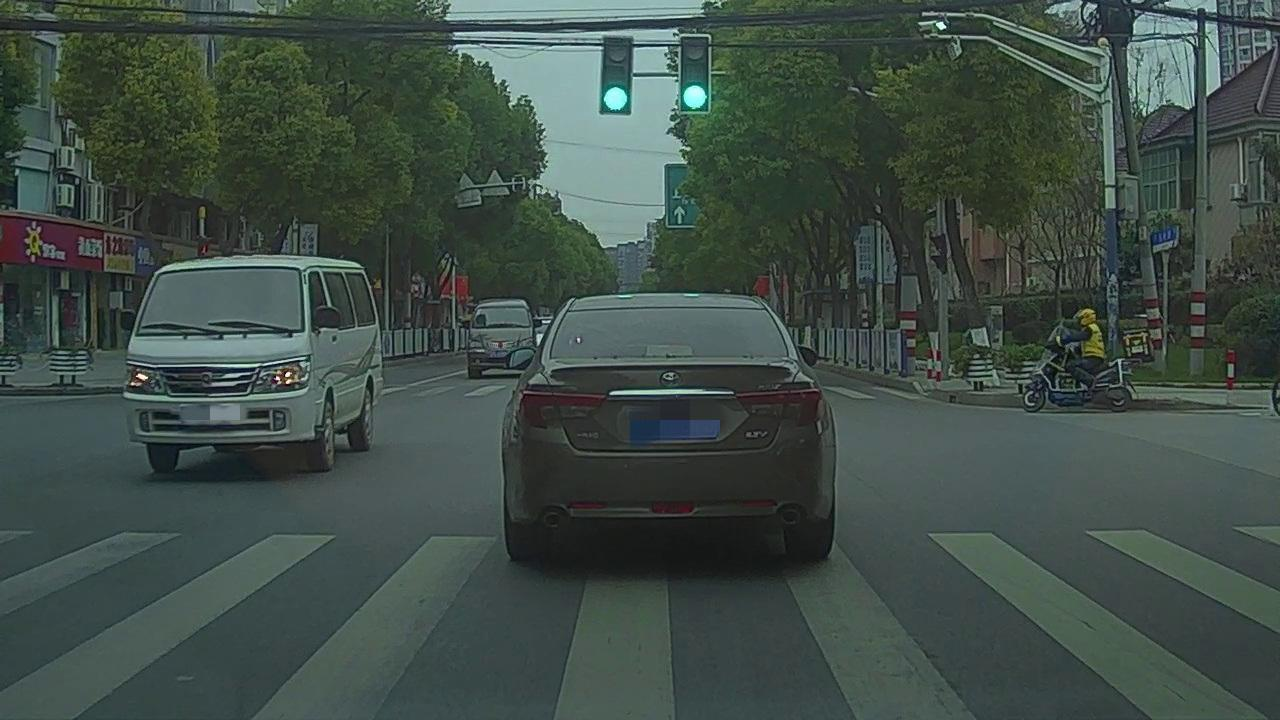traffic_light: (683, 37, 711, 113), (604, 34, 629, 113)
